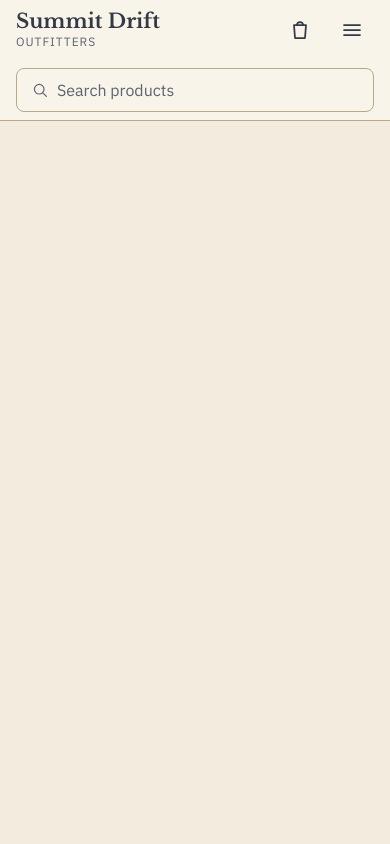
Test case: Header › mobile menu › opens a labelled panel with the navigation links
Click the button named "Menu": (352, 30) [330,8,374,52]
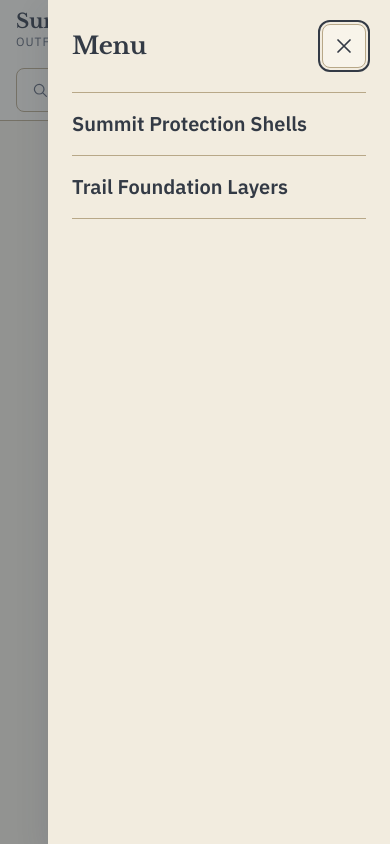
Now the button named "Menu" is expanded, box [330,8,374,52]
Now the links read "Summit Protection Shells", "Trail Foundation Layers", in this order, box [72,110,307,137]; [72,173,288,200]
